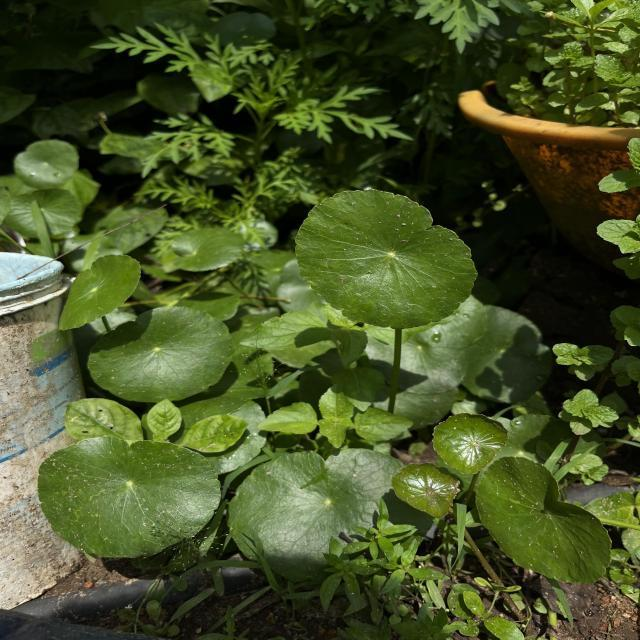Bacopa monnieri: (292, 186, 480, 332), (35, 434, 224, 560), (473, 453, 614, 586), (84, 302, 236, 405), (55, 252, 142, 332), (430, 409, 510, 477), (390, 461, 465, 519)
